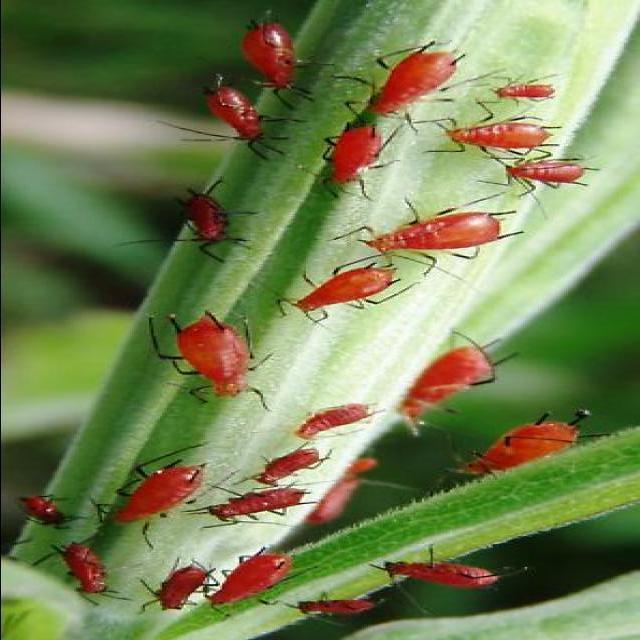aphid: (338, 206, 523, 276), (450, 412, 579, 484), (162, 316, 246, 421), (355, 43, 462, 118), (100, 460, 202, 536), (406, 336, 498, 418), (282, 260, 402, 320), (206, 548, 296, 616), (209, 482, 330, 530), (171, 193, 243, 265), (136, 556, 219, 615), (203, 79, 266, 142), (244, 443, 332, 487), (292, 402, 385, 442), (55, 544, 105, 614), (358, 561, 501, 585), (10, 490, 64, 532), (286, 600, 376, 616), (495, 82, 556, 100)
